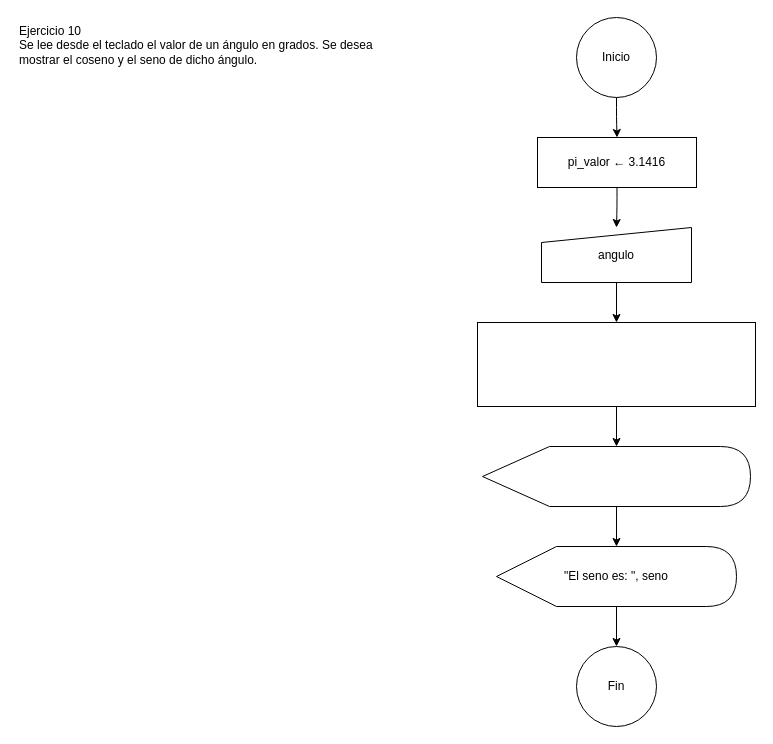
Image size: 773x744. Some labels were removed from this diagram. The shapes that lost their labels are listed below. From the top down, each one's box as (x1, y1, x2, y2) in pixels, then its label:
(476, 322, 756, 406): radianes ← angulo * pi_valor / 180 coseno ← cos(radianes) seno ← sin(radianes)
(482, 446, 750, 506): "El coseno es: ", coseno
